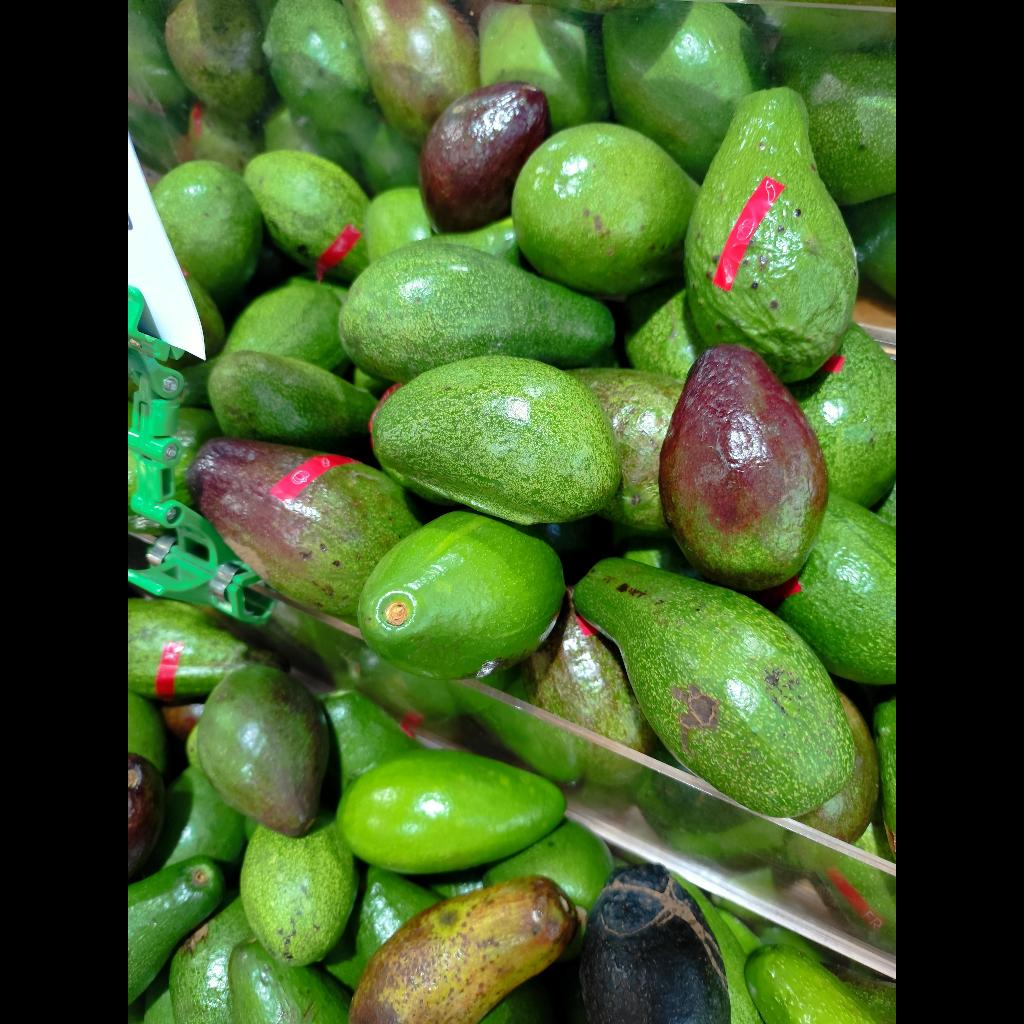anthracnose: (349, 875, 578, 1024), (419, 81, 550, 232)
healthy: (372, 356, 620, 524), (339, 238, 614, 382), (337, 749, 566, 874)
scab: (573, 558, 854, 816), (684, 88, 858, 382), (580, 865, 731, 1024)
stem end rot: (187, 437, 421, 621), (659, 344, 828, 591)
